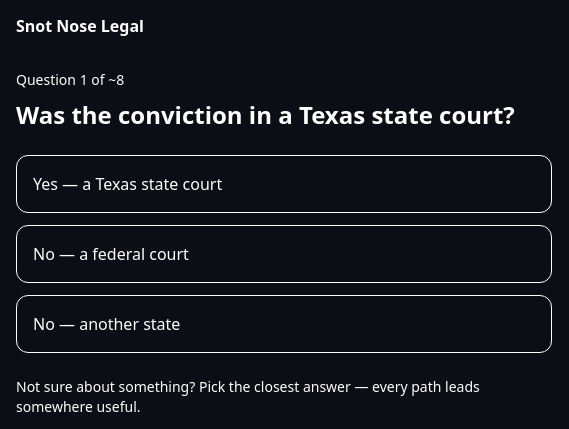
S0 eligibility wizard › the back button unwinds one answer
Click the radio button labelled "Yes — a Texas state court".
click(128, 184)  # box [16,155,552,213]
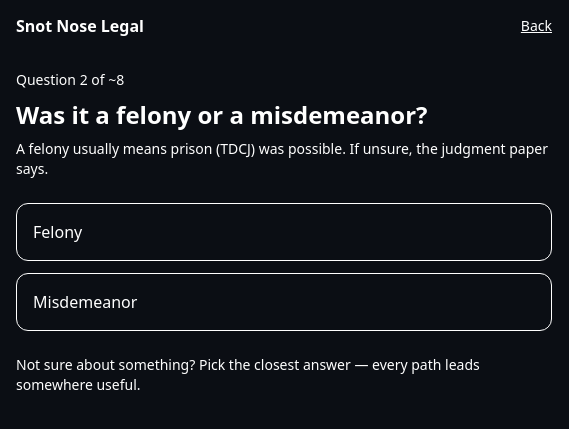
Now the heading "Was it a felony or a misdemeanor?" is shown, box [16,98,428,131]
Click the button "Back".
click(536, 26)  # box [521,16,552,36]
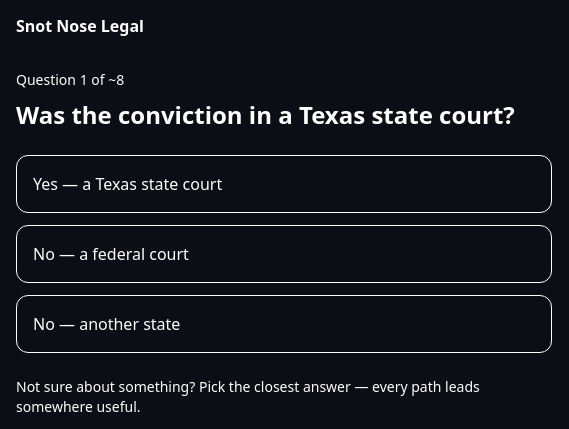
Now the heading "Was the conviction in a Texas state court?" is shown, box [16,98,552,131]
